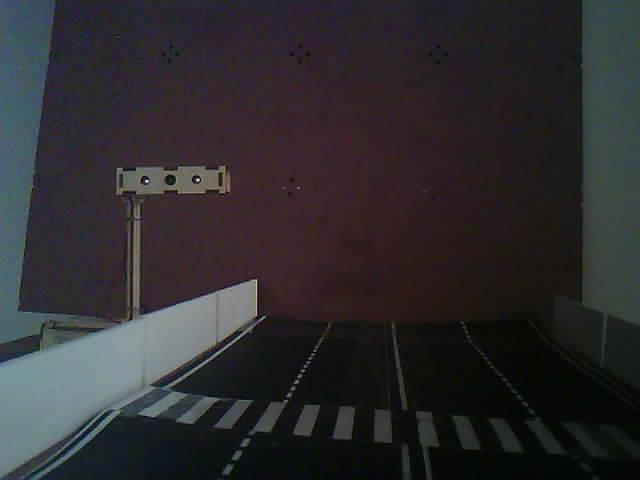crosswalk: (79, 371, 640, 480)
no: (83, 136, 270, 335)
